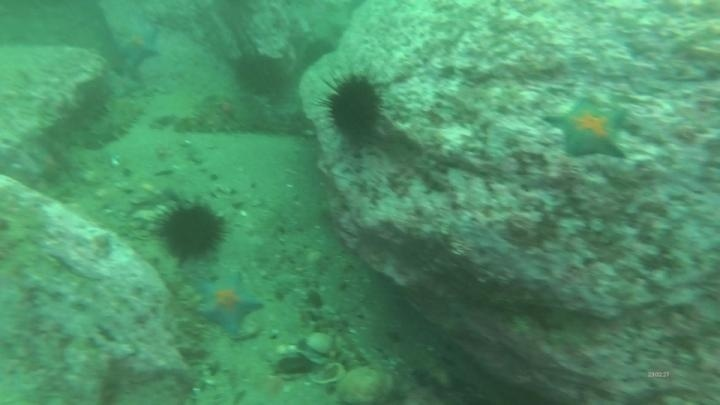echinus: (152, 197, 230, 265), (320, 70, 388, 145), (232, 50, 288, 99), (297, 35, 337, 73)
holothurian: (78, 95, 145, 152), (168, 278, 208, 355), (160, 107, 249, 138)
starfish: (543, 95, 632, 162), (192, 271, 265, 338), (114, 21, 164, 71), (26, 144, 68, 186), (101, 68, 143, 101)
